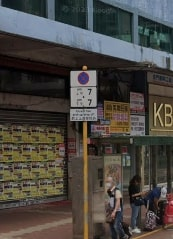Start Of No Stopping: (69, 69, 99, 109)
